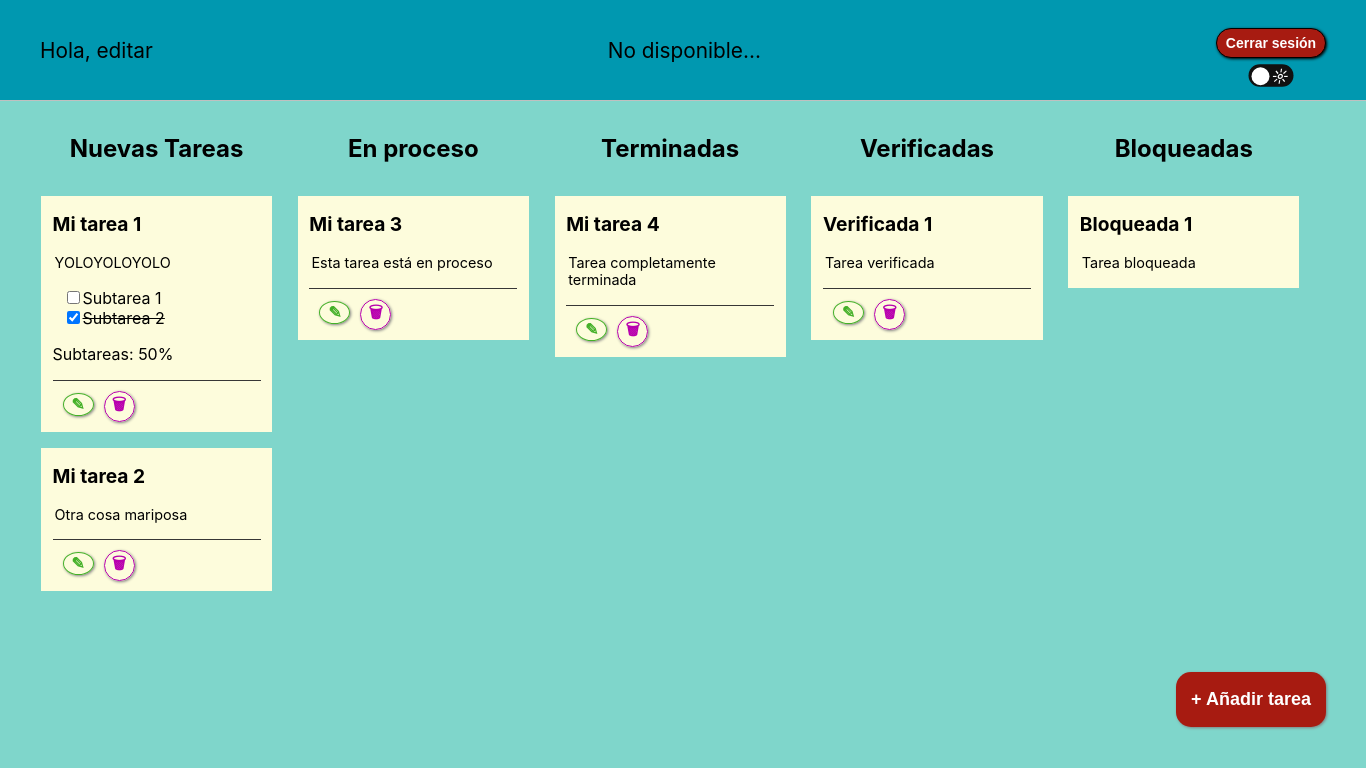
Test: Edit task › Check if the form contains the values
The width and height of the screenshot is (1366, 768).
Step 1. Click the button with test id "1buttoneditar" → coordinates (79, 405), box [63,393,94,416]
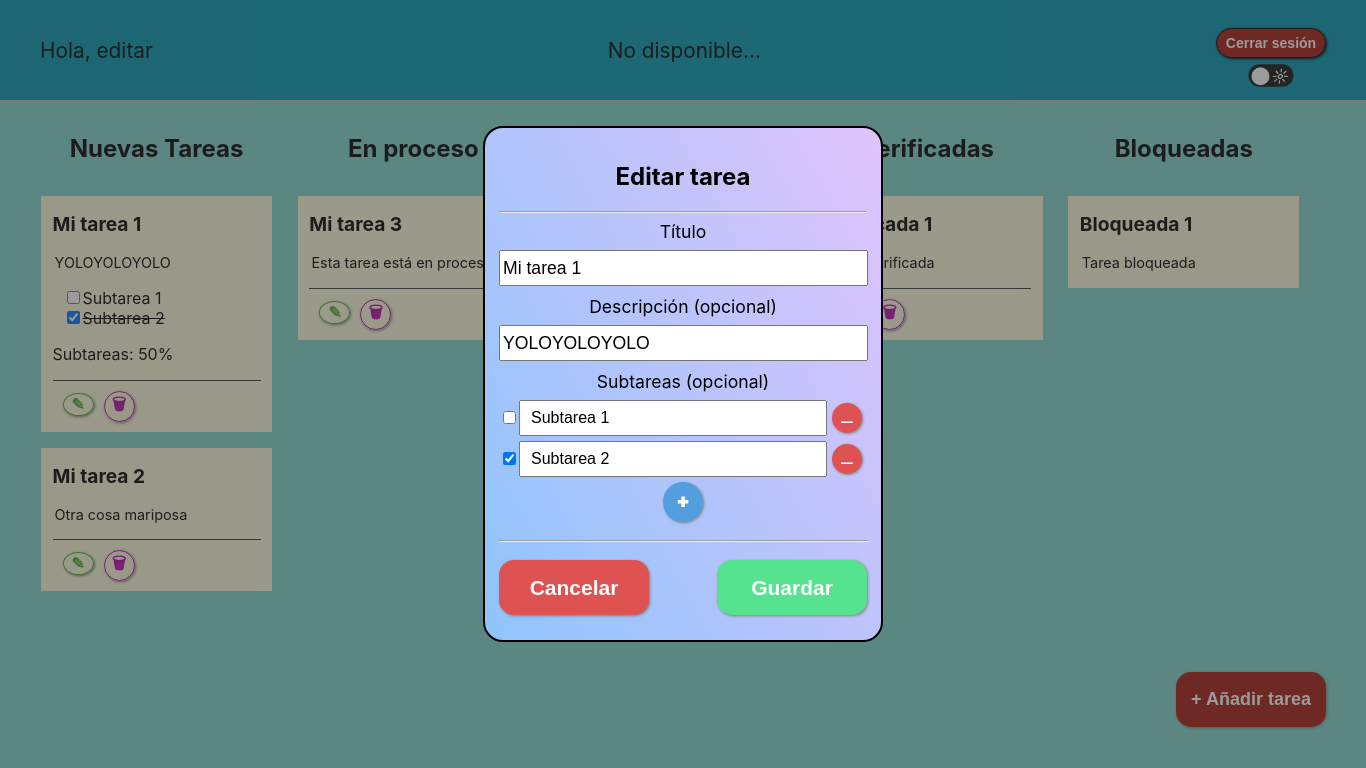
Expected: the field with test id "input-titulo" holds "Mi tarea 1", [499,250,868,286]
Expected: the field with test id "input-descripcion" holds "YOLOYOLOYOLO", [499,325,868,361]
Expected: the field with test id "subtareas[0" holds "Subtarea 1", [519,400,827,436]
